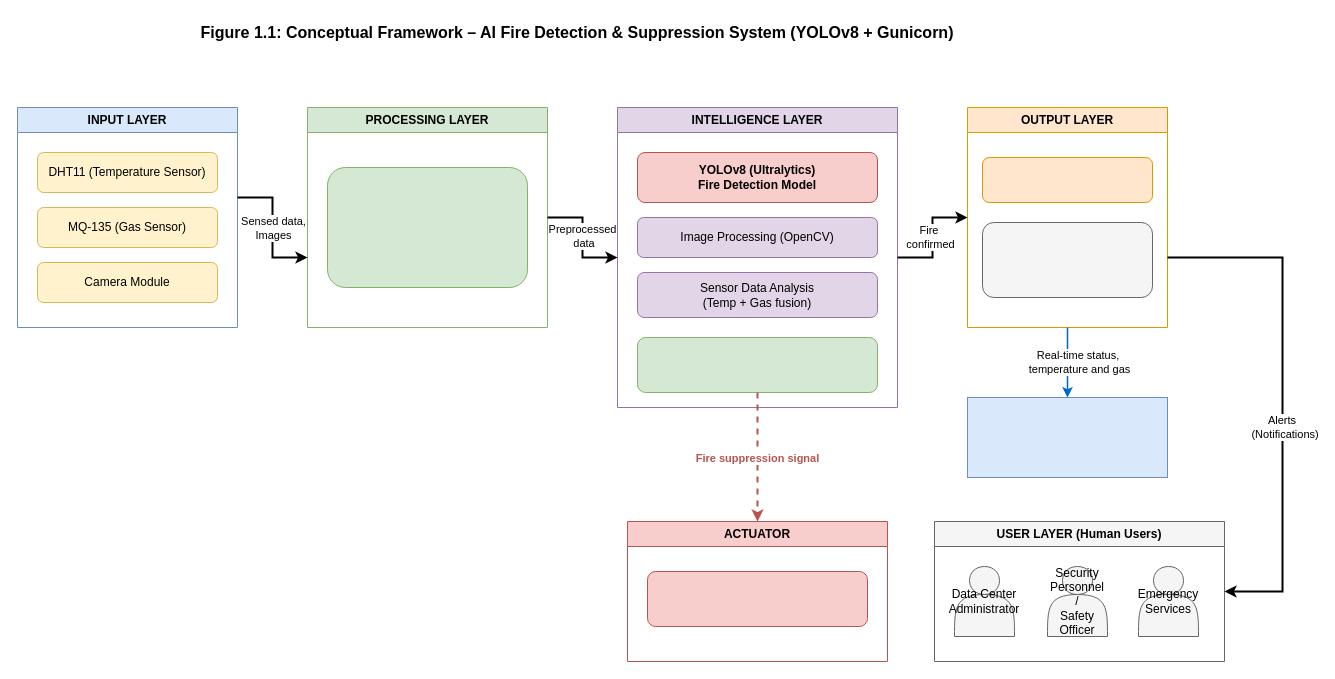
Image size: 1335x679. Some labels were removed from this diagram. Here are the shapes that lost their labels. From the top down, the centre of each, then its label:
the point at 1067,179: Alert System (notifications)
the point at 427,227: Raspberry Pi 3 B+ (Data acquisition & preprocessing)
the point at 1067,260: + Gunicorn Web Server + FastAPI Dashboard
the point at 757,364: Decision: Fire / No Fire (confidence ≥ 0.7)
the point at 1067,437: Remote Monitoring (Wi-Fi) Access dashboard via http://fire-bot:5000
the point at 757,598: CO₂ Fire Suppression System (activated via relay)
